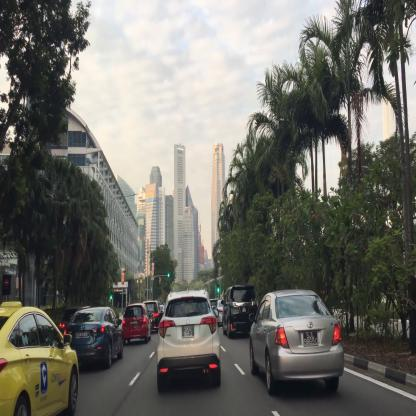green_traffic_light: (216, 284, 220, 292), (110, 290, 112, 299), (167, 274, 172, 276)
